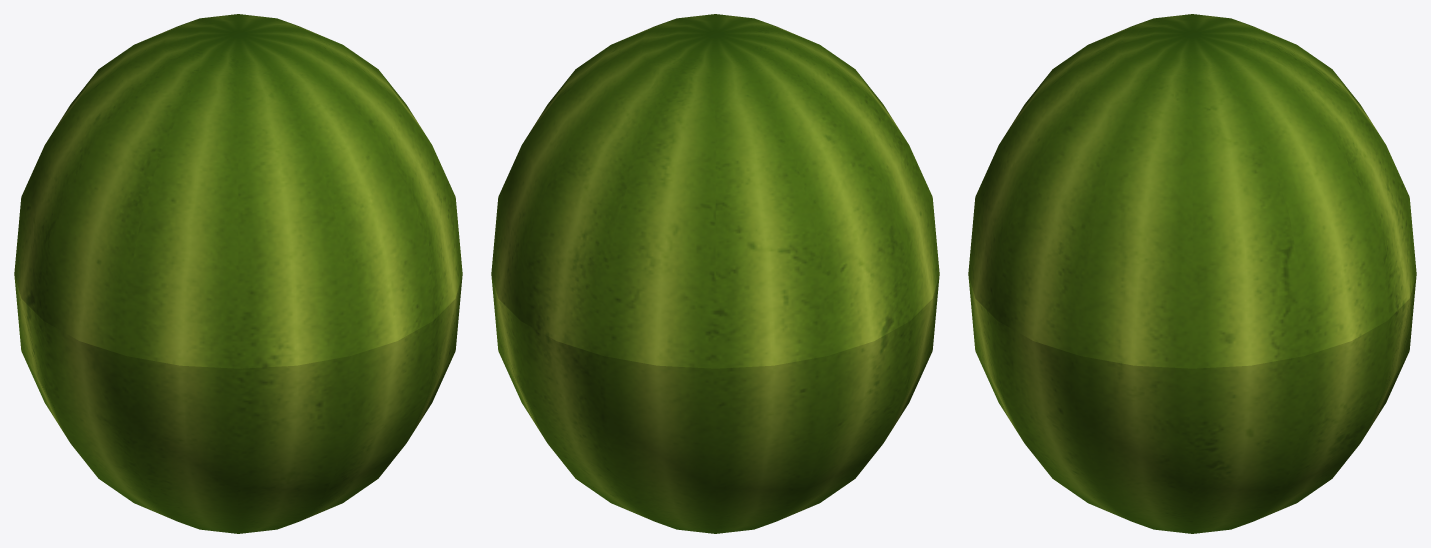
The picture shows the model from 3 angles, left to right: view 1: azimuth 30°, elevation 25°; view 2: azimuth 150°, elevation 25°; view 3: azimuth 270°, elevation 25°; orthographic projection.
Parts seen in each view (by area): view 1: Watermelon_Half_Top001, Watermelon_Half_Bottom001; view 2: Watermelon_Half_Top001, Watermelon_Half_Bottom001; view 3: Watermelon_Half_Top001, Watermelon_Half_Bottom001.
Boxes of the visible parts, x1,y1,x2,y2 form: Watermelon_Half_Top001: [14, 14, 462, 368]; Watermelon_Half_Bottom001: [14, 275, 462, 533]; Watermelon_Half_Top001: [491, 14, 939, 368]; Watermelon_Half_Bottom001: [491, 275, 939, 533]; Watermelon_Half_Top001: [968, 14, 1416, 368]; Watermelon_Half_Bottom001: [968, 275, 1416, 533].
Size of the model in its own units: 24.39 by 28.86 by 24.39.
Materials: 2 (2 with a texture image).
